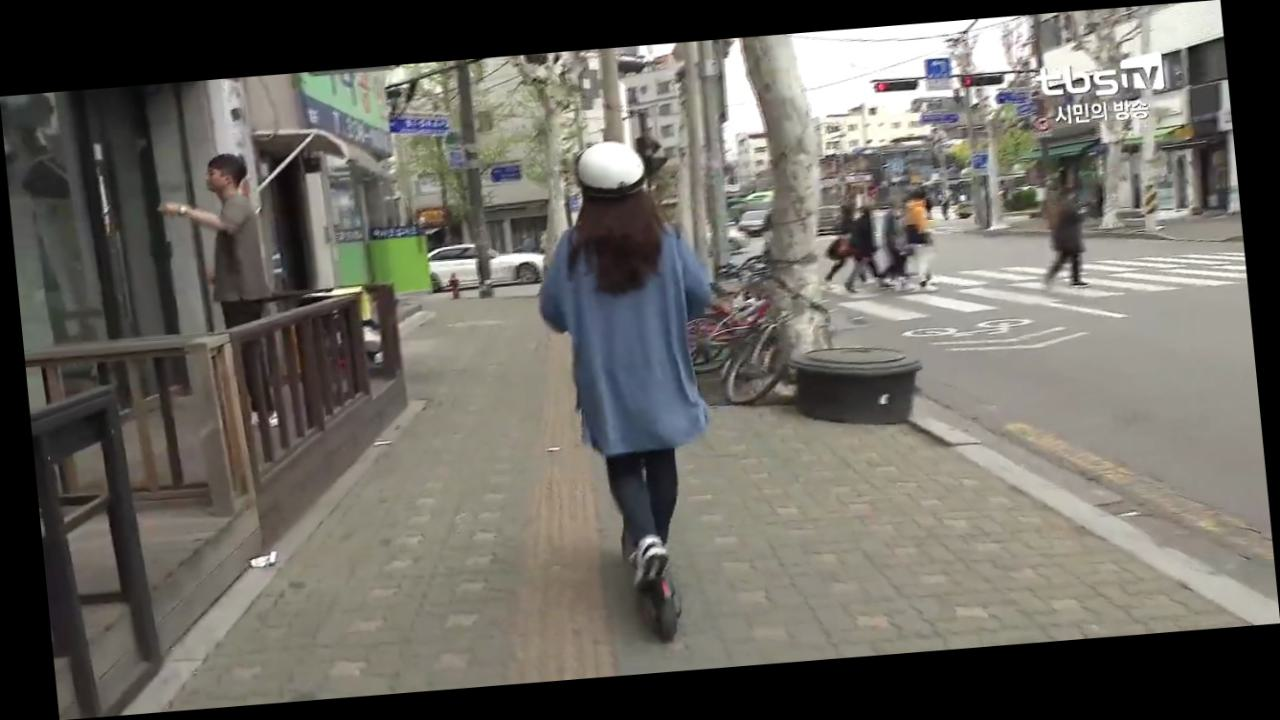helmet: (523, 132, 748, 655)
